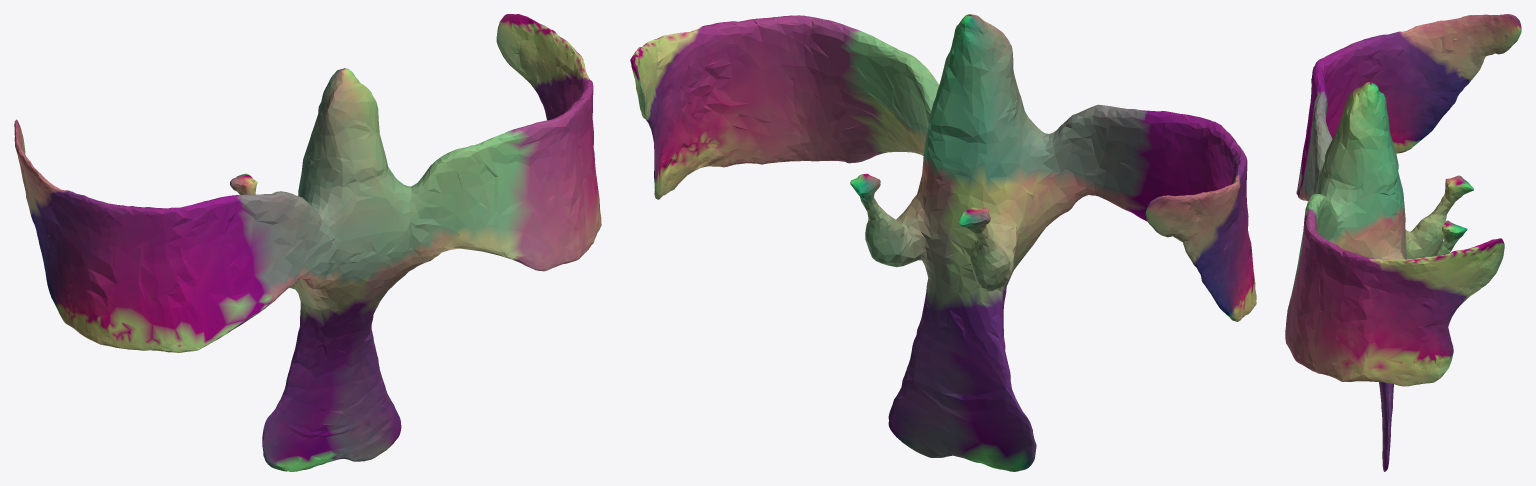
Rendered from bird2-11.off.obj.
The picture shows the model from 3 angles, left to right: view 1: azimuth 30°, elevation 25°; view 2: azimuth 150°, elevation 25°; view 3: azimuth 270°, elevation 25°; orthographic projection. The views are drawn at different scales.
Bounding box in the file's own units: 1.57 × 1.14 × 0.6564.
